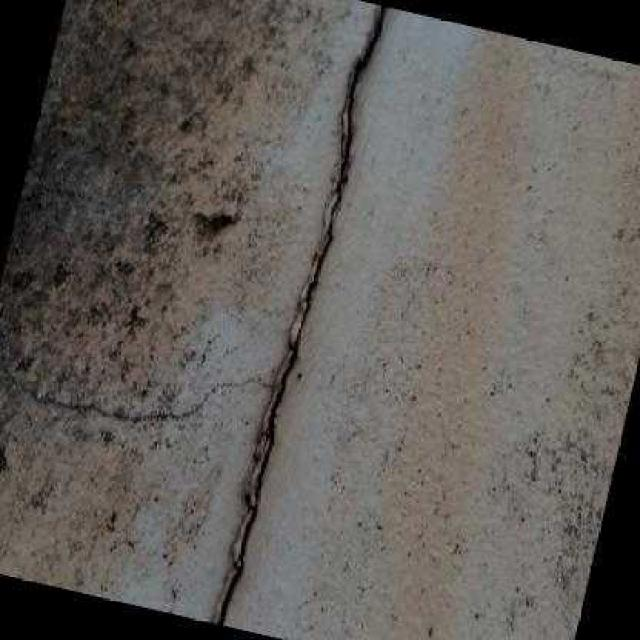D00: (217, 6, 386, 626)
